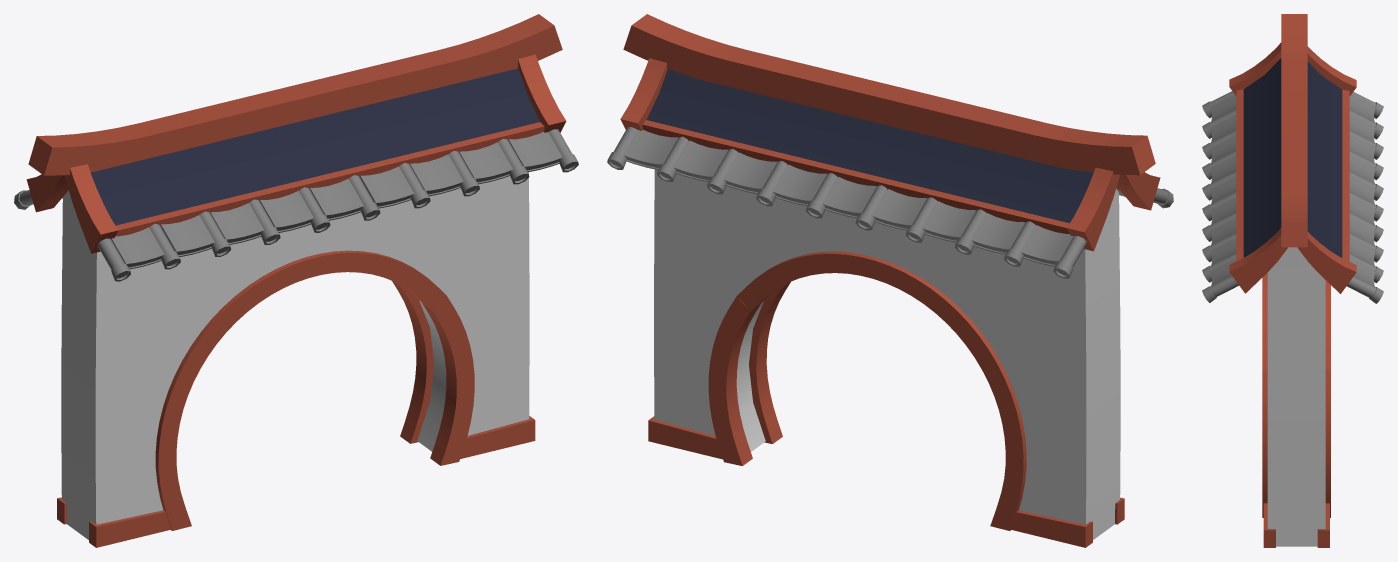
Rendered from SM_wall_gate.fbx.
3 views of the same model, side by side, from view 1: azimuth 30°, elevation 25°; view 2: azimuth 150°, elevation 25°; view 3: azimuth 270°, elevation 25° (orthographic). The views are drawn at different scales.
Parts seen in each view (by area): view 1: Object32474; view 2: Object32474; view 3: Object32474.
Part boxes in pixels (x1,y1,x2,y2): Object32474: [14, 14, 578, 547]; Object32474: [607, 14, 1173, 547]; Object32474: [1202, 14, 1383, 547].
Size of the model in its own units: 211 by 157 by 75.78.
